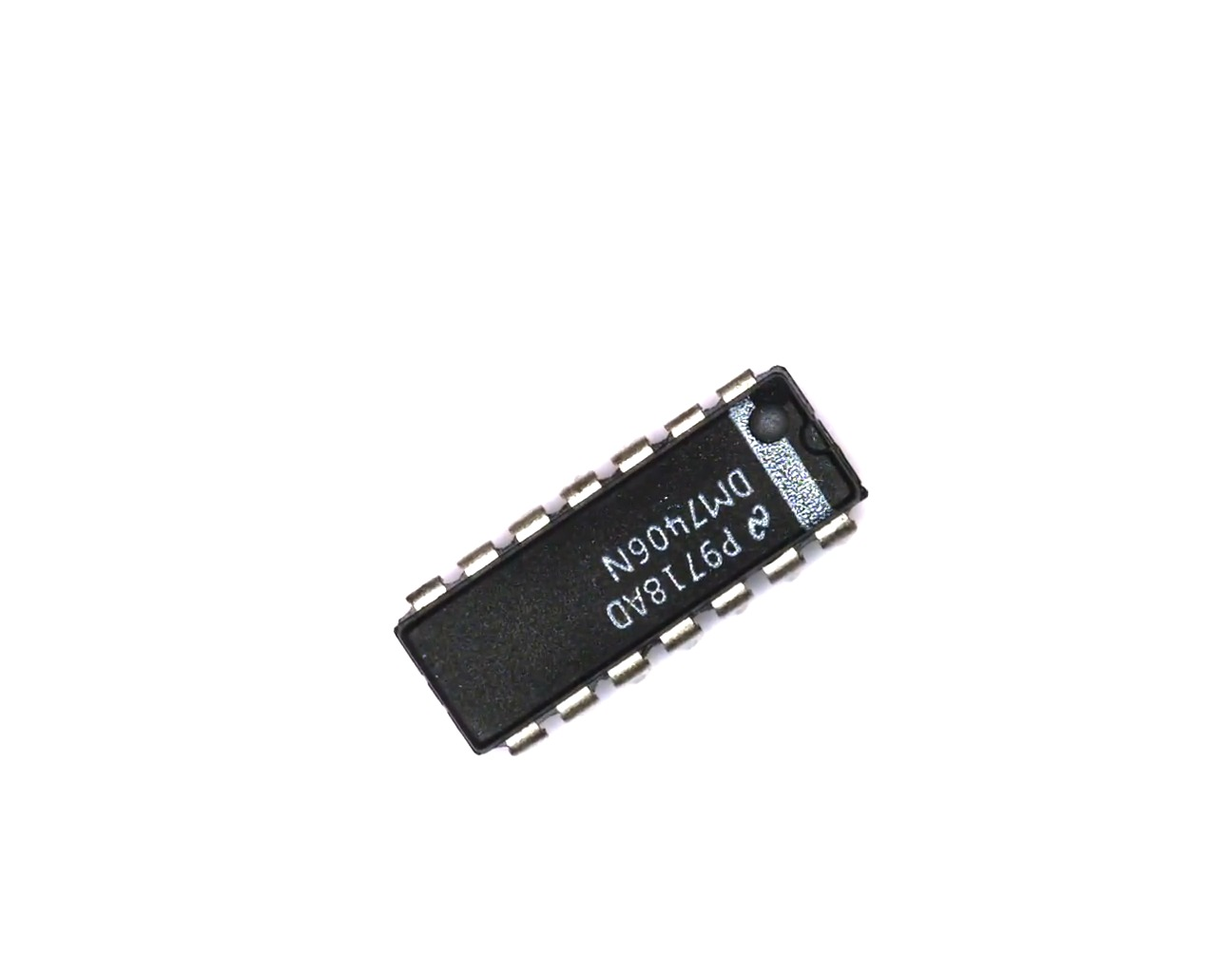IC: (357, 327, 900, 791)
notch: (795, 411, 838, 460)
